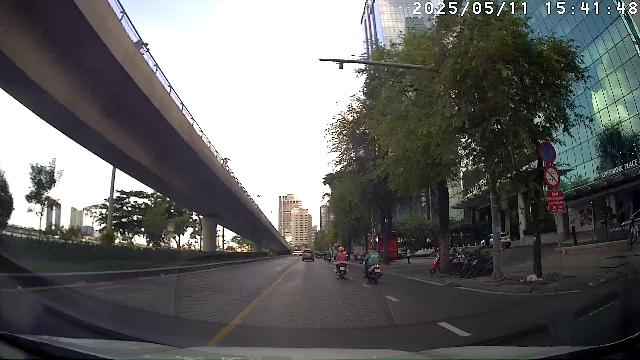130-cam-dung-va-do-xe: (539, 142, 557, 164)
